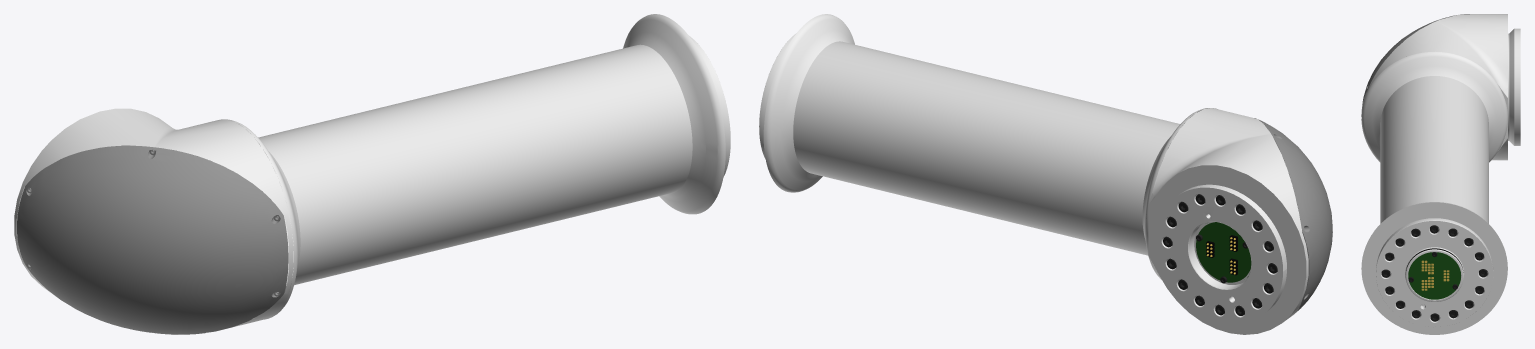
3 views of the same model, side by side, from view 1: azimuth 30°, elevation 25°; view 2: azimuth 150°, elevation 25°; view 3: azimuth 270°, elevation 25° (orthographic). The views are drawn at different scales.
Visible parts, largest first — view 1: L116.001; view 2: L116.001; view 3: L116.001.
Part boxes in pixels (x1,y1,x2,y2): L116.001: (14,14,730,334); L116.001: (759,14,1332,334); L116.001: (1361,14,1520,334).
Size of the model in its own units: 0.4127 by 0.116 by 0.126.
